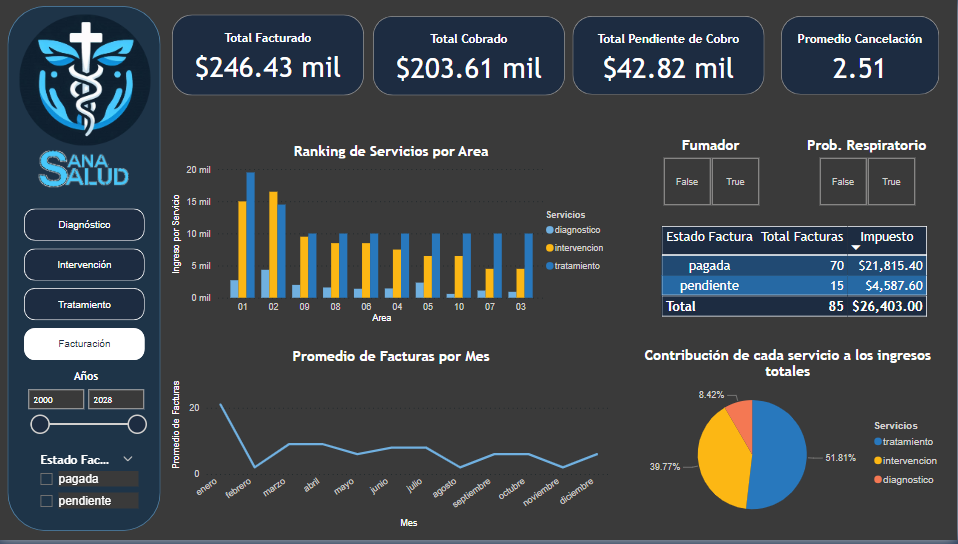

What the dashboard file says about the page in this screenshot:
{"tool":"powerbi","page":{"name":"Facturación","canvas":[1280,720],"ordinal":3},"visuals":[{"type":"shape","box":[14,7,204,700],"z":0},{"type":"pageNavigator","box":[35,278.3,161.7,205],"z":1000},{"type":"cardVisual","fields":{"Data":["Sum(olap fact_facturacion.monto_total)"]},"box":[228.3,13.3,266.7,118.3],"z":2000},{"type":"clusteredColumnChart","title":"Ranking de Servicios por Area","fields":{"Category":["olap dim_area.piso"],"Series":["olap dim_tipo_servicio.descripcion"],"Y":["Sum(olap fact_facturacion.costo_servicio)"]},"box":[228.3,190,595,245],"z":3000},{"type":"lineChart","title":"Promedio de Facturas por Mes","fields":{"Y":["olap fact_facturacion.promedioFacturasPorMes"],"Category":["olap dim_tiempo.fecha.Variación.Jerarquía de fechas.Mes"]},"box":[228.3,463.3,595,245],"z":4000},{"type":"cardVisual","fields":{"Data":["Sum(olap fact_facturacion.monto_total)"]},"box":[495,15,266.7,116.7],"z":5000},{"type":"cardVisual","fields":{"Data":["Sum(olap fact_facturacion.monto_total)"]},"box":[761.7,16.7,266.7,115],"z":6000},{"type":"pieChart","title":"Contribución de cada servicio a los ingresos totales","fields":{"Category":["olap dim_tipo_servicio.descripcion","olap fact_facturacion.id_factura"],"Y":["Sum(olap fact_facturacion.monto_total)"]},"box":[840,461.7,428.3,245],"z":7000},{"type":"tableEx","fields":{"Values":["olap dim_estado_factura.descripcion","CountNonNull(olap fact_facturacion.id_factura)","Sum(olap fact_facturacion.impuesto)"]},"box":[880,295,370,140],"z":8000},{"type":"image","box":[19,14,194,185],"z":9000},{"type":"image","box":[50,156.2,131.2,137.4],"z":10000},{"type":"slicer","title":"Años","fields":{"Values":["olap dim_tiempo.anio"]},"box":[14,491,194,107],"z":11000},{"type":"slicer","title":"Fumador","fields":{"Values":["olap dim_historia_medica.fumador"]},"box":[848.3,181.7,191.7,98.3],"z":13000},{"type":"slicer","title":"Prob. Respiratorio","fields":{"Values":["olap dim_historia_medica.prob_respiratorio"]},"box":[1055,181.7,191.7,98.3],"z":13001},{"type":"cardVisual","fields":{"Data":["olap fact_facturacion.Promedio_Dias_Pago"]},"box":[1040,16.7,221.7,115],"z":13002},{"type":"slicer","fields":{"Values":["olap dim_estado_factura.descripcion"]},"box":[30,598.3,163.3,98.3],"z":13003}]}

Visuals, with their boxes in screenshot pixels (x1, y1, x2, y2), scaled from the page's 1280x720 canvas onto the 958x544 screenshot:
shape: (10, 5, 163, 534)
pageNavigator: (26, 210, 147, 365)
cardVisual - Sum(olap fact_facturacion.monto_total): (171, 10, 370, 99)
"Ranking de Servicios por Area" clusteredColumnChart: (171, 144, 616, 329)
"Promedio de Facturas por Mes" lineChart: (171, 350, 616, 535)
cardVisual - Sum(olap fact_facturacion.monto_total): (370, 11, 570, 100)
cardVisual - Sum(olap fact_facturacion.monto_total): (570, 13, 770, 100)
"Contribución de cada servicio a los ingresos totales" pieChart: (629, 349, 949, 534)
tableEx - olap dim_estado_factura.descripcion x CountNonNull(olap fact_facturacion.id_factura): (659, 223, 936, 329)
image: (14, 11, 159, 150)
image: (37, 118, 136, 222)
"Años" slicer: (10, 371, 156, 452)
"Fumador" slicer: (635, 137, 778, 212)
"Prob. Respiratorio" slicer: (790, 137, 933, 212)
cardVisual - olap fact_facturacion.Promedio_Dias_Pago: (778, 13, 944, 100)
slicer - olap dim_estado_factura.descripcion: (22, 452, 145, 526)
